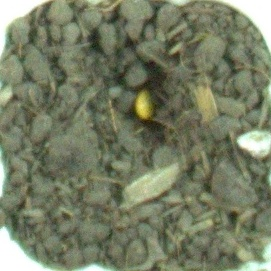chilli seed: (132, 87, 161, 120)
